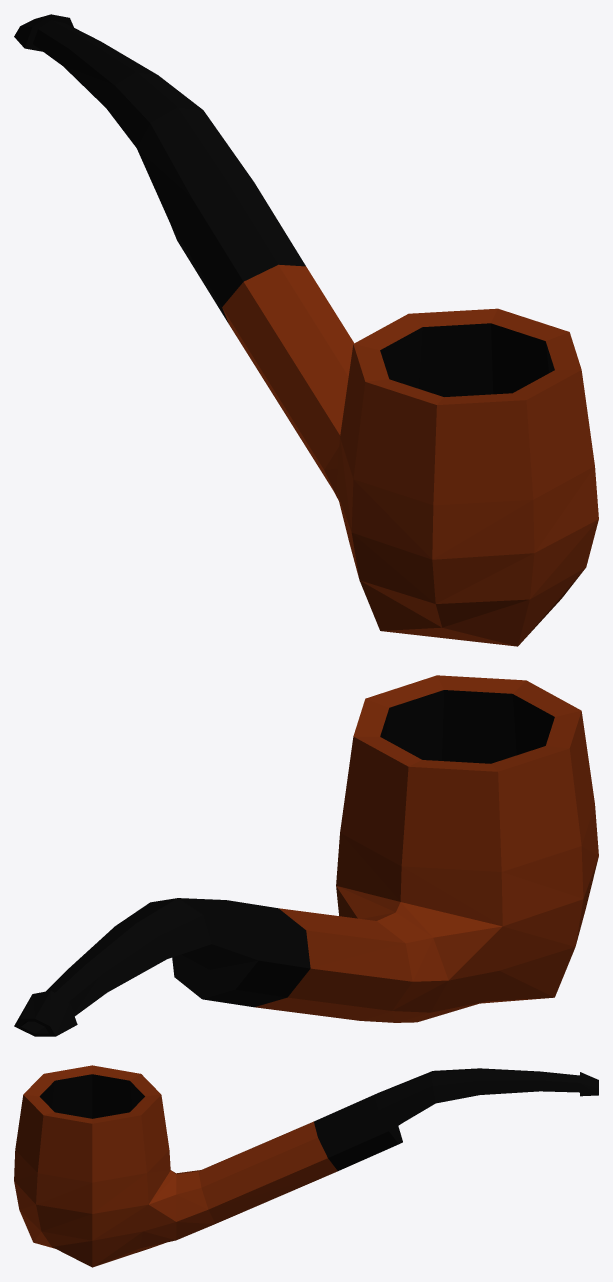
File: detective pipe.glb
3 renders of one model, top to bottom at view 1: azimuth 30°, elevation 25°; view 2: azimuth 150°, elevation 25°; view 3: azimuth 270°, elevation 25°, orthographic. The views are drawn at different scales.
Parts seen in each view (by area): view 1: Node; view 2: Node; view 3: Node.
Boxes of the visible parts, x1,y1,x2,y2 form: Node: (14, 14, 598, 646); Node: (14, 675, 598, 1036); Node: (14, 1065, 598, 1267).
Bounding box in the file's own units: 1.08 × 1.44 × 4.01.
